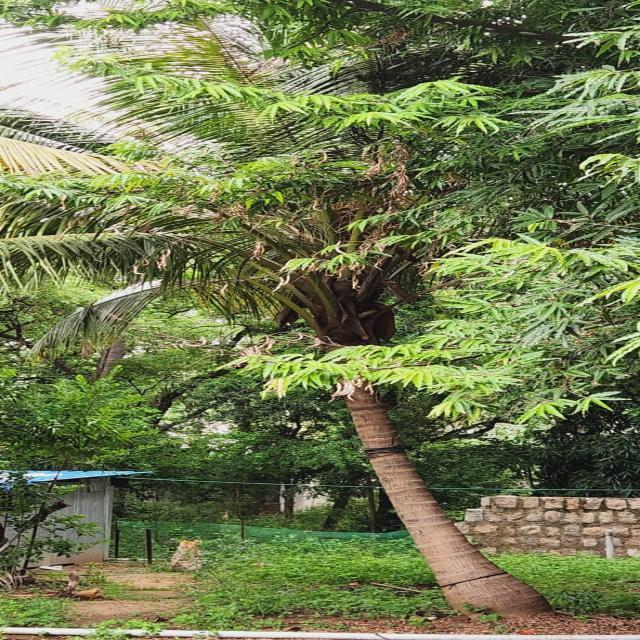Coconut-tree: (76, 95, 640, 640)
